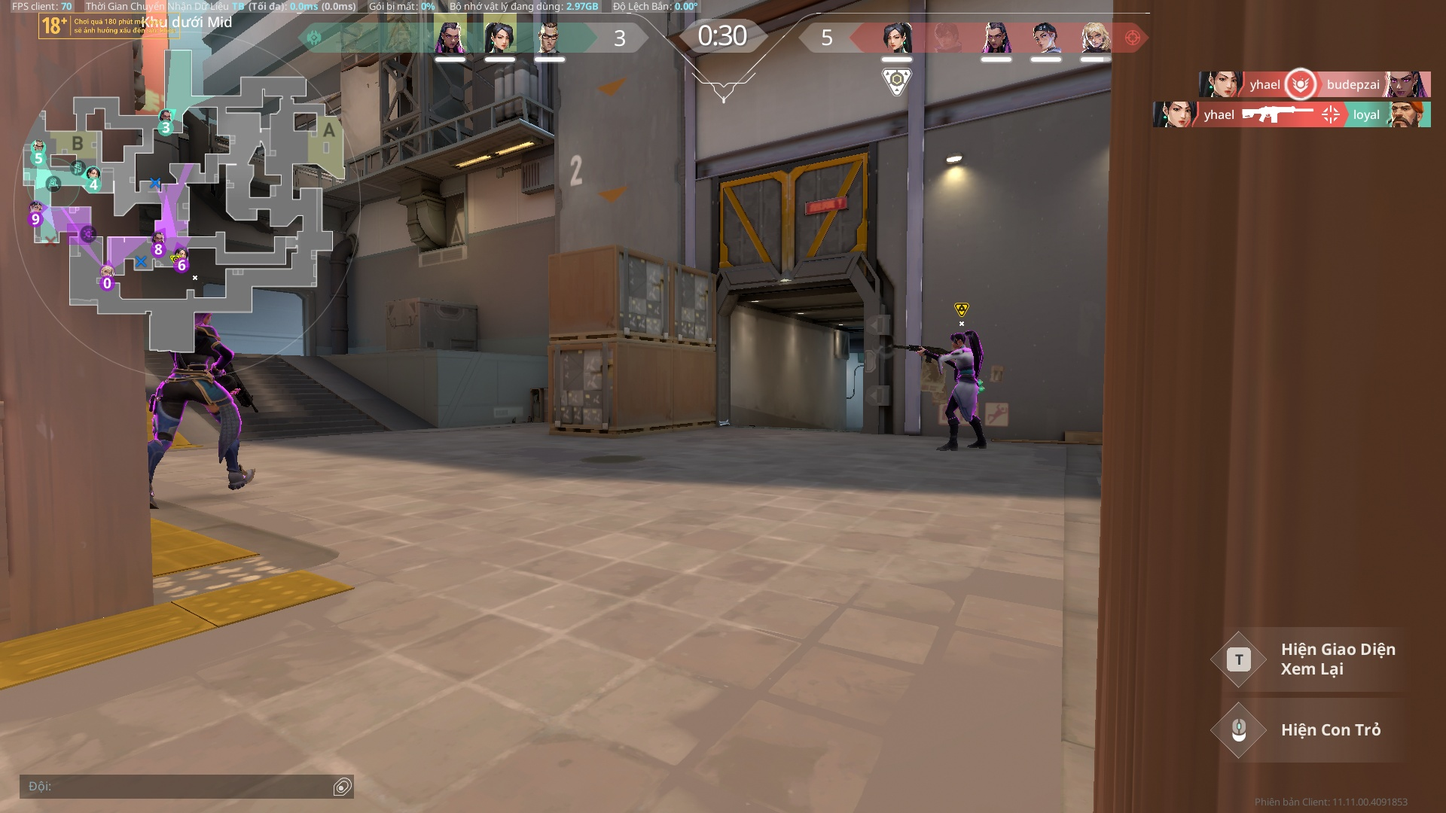body: (169, 319, 220, 382), (950, 346, 979, 383)
head: (949, 332, 967, 349)
